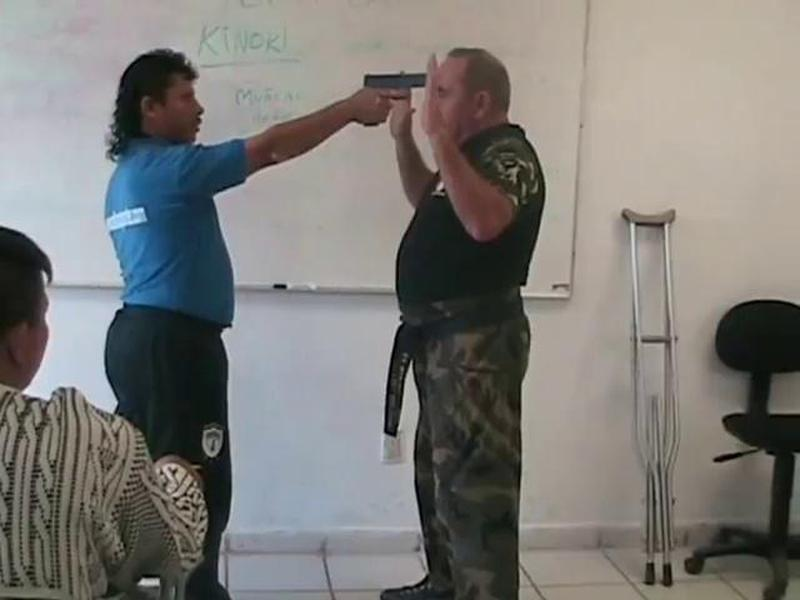Pistola: (353, 59, 446, 140)
